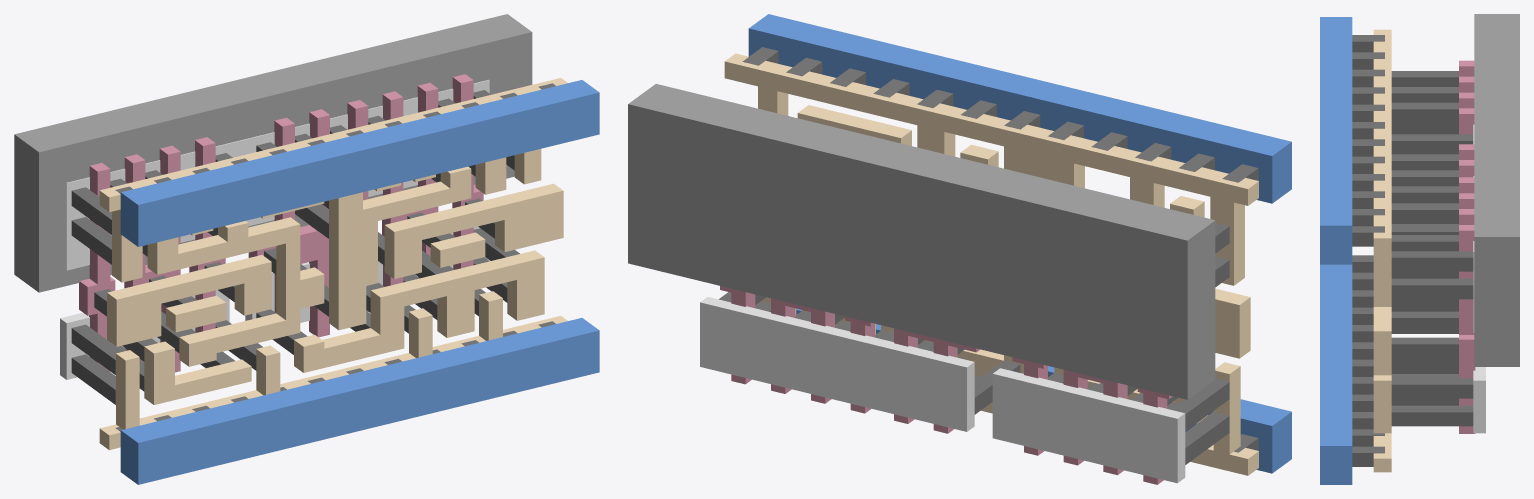
Rendered from sky130_fd_sc_hd__o2bb2ai_2.gds.gltf.
3 renders of one model, left to right at view 1: azimuth 30°, elevation 25°; view 2: azimuth 150°, elevation 25°; view 3: azimuth 270°, elevation 25°, orthographic. The views are drawn at different scales.
Visible parts, largest first — view 1: sky130_fd_sc_hd__o2bb2ai_2_li1, sky130_fd_sc_hd__o2bb2ai_2_met1, sky130_fd_sc_hd__o2bb2ai_2_nwell, sky130_fd_sc_hd__o2bb2ai_2_licon, sky130_fd_sc_hd__o2bb2ai_2_poly, sky130_fd_sc_hd__o2bb2ai_2_diff, sky130_fd_sc_hd__o2bb2ai_2_mcon; view 2: sky130_fd_sc_hd__o2bb2ai_2_nwell, sky130_fd_sc_hd__o2bb2ai_2_diff, sky130_fd_sc_hd__o2bb2ai_2_li1, sky130_fd_sc_hd__o2bb2ai_2_met1, sky130_fd_sc_hd__o2bb2ai_2_licon, sky130_fd_sc_hd__o2bb2ai_2_poly, sky130_fd_sc_hd__o2bb2ai_2_mcon; view 3: sky130_fd_sc_hd__o2bb2ai_2_licon, sky130_fd_sc_hd__o2bb2ai_2_nwell, sky130_fd_sc_hd__o2bb2ai_2_met1, sky130_fd_sc_hd__o2bb2ai_2_mcon, sky130_fd_sc_hd__o2bb2ai_2_li1, sky130_fd_sc_hd__o2bb2ai_2_poly, sky130_fd_sc_hd__o2bb2ai_2_diff.
Boxes of the visible parts, left/top/right/bottom form: sky130_fd_sc_hd__o2bb2ai_2_li1: left=99, top=78, right=567, bottom=450; sky130_fd_sc_hd__o2bb2ai_2_met1: left=120, top=80, right=599, bottom=484; sky130_fd_sc_hd__o2bb2ai_2_nwell: left=14, top=14, right=532, bottom=292; sky130_fd_sc_hd__o2bb2ai_2_licon: left=71, top=90, right=519, bottom=404; sky130_fd_sc_hd__o2bb2ai_2_poly: left=79, top=74, right=483, bottom=372; sky130_fd_sc_hd__o2bb2ai_2_diff: left=60, top=80, right=489, bottom=379; sky130_fd_sc_hd__o2bb2ai_2_mcon: left=115, top=83, right=555, bottom=431; sky130_fd_sc_hd__o2bb2ai_2_nwell: left=628, top=84, right=1215, bottom=399; sky130_fd_sc_hd__o2bb2ai_2_diff: left=700, top=297, right=1185, bottom=483; sky130_fd_sc_hd__o2bb2ai_2_li1: left=724, top=53, right=1258, bottom=475; sky130_fd_sc_hd__o2bb2ai_2_met1: left=748, top=14, right=1291, bottom=473; sky130_fd_sc_hd__o2bb2ai_2_licon: left=719, top=223, right=1229, bottom=464; sky130_fd_sc_hd__o2bb2ai_2_poly: left=720, top=286, right=1172, bottom=484; sky130_fd_sc_hd__o2bb2ai_2_mcon: left=742, top=47, right=1258, bottom=452; sky130_fd_sc_hd__o2bb2ai_2_licon: left=1391, top=71, right=1473, bottom=426; sky130_fd_sc_hd__o2bb2ai_2_nwell: left=1474, top=14, right=1519, bottom=366; sky130_fd_sc_hd__o2bb2ai_2_met1: left=1320, top=17, right=1352, bottom=484; sky130_fd_sc_hd__o2bb2ai_2_mcon: left=1352, top=35, right=1384, bottom=466; sky130_fd_sc_hd__o2bb2ai_2_li1: left=1373, top=29, right=1391, bottom=472; sky130_fd_sc_hd__o2bb2ai_2_poly: left=1459, top=60, right=1475, bottom=433; sky130_fd_sc_hd__o2bb2ai_2_diff: left=1473, top=124, right=1485, bottom=433.
Bounding box in the file's own units: 5.9 × 3.2 × 2.24.
